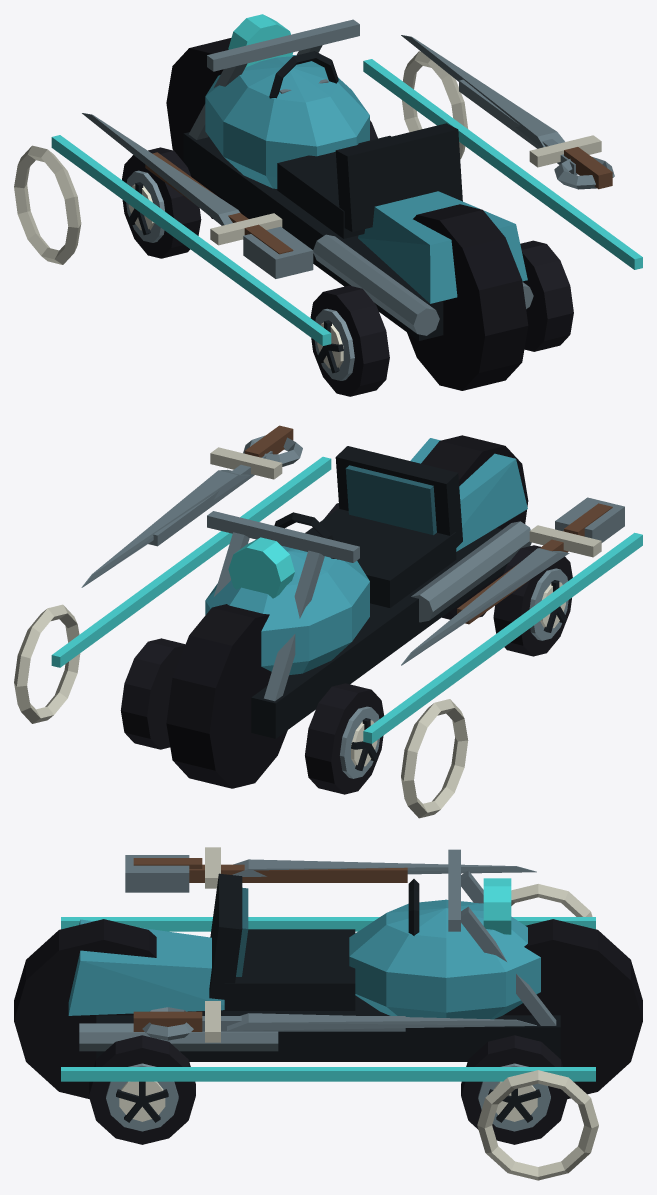
File: kart.glb
3 views of the same model, one above another, from view 1: azimuth 30°, elevation 25°; view 2: azimuth 150°, elevation 25°; view 3: azimuth 270°, elevation 25° (orthographic).
Parts seen in each view (by area): view 1: identity-motorbike-motorbike-tank-and-fork, identity-motorbike-motif-neon, identity-motorbike-driver-cockpit, identity-motorbike-motif-swords, wheel-rear-left, identity-motorbike-motif-tools, wheel-front-left, wheel-rear-right; view 2: identity-motorbike-motorbike-tank-and-fork, identity-motorbike-motif-neon, identity-motorbike-driver-cockpit, identity-motorbike-motif-swords, wheel-front-left, wheel-front-right, wheel-rear-left, identity-motorbike-motif-tools; view 3: identity-motorbike-motorbike-tank-and-fork, identity-motorbike-motif-neon, identity-motorbike-driver-cockpit, identity-motorbike-motif-swords, wheel-rear-right, wheel-front-right, identity-motorbike-motif-tools.
Part boxes in pixels (<box>): identity-motorbike-motorbike-tank-and-fork: <box>166,14,533,390</box>; identity-motorbike-motif-neon: <box>14,51,642,345</box>; identity-motorbike-driver-cockpit: <box>269,51,462,238</box>; identity-motorbike-motif-swords: <box>82,35,612,254</box>; wheel-rear-left: <box>310,285,389,396</box>; identity-motorbike-motif-tools: <box>145,79,614,278</box>; wheel-front-left: <box>122,147,201,258</box>; wheel-rear-right: <box>520,240,573,351</box>; identity-motorbike-motorbike-tank-and-fork: <box>166,435,531,788</box>; identity-motorbike-motif-neon: <box>14,456,642,818</box>; identity-motorbike-driver-cockpit: <box>274,446,462,607</box>; identity-motorbike-motif-swords: <box>81,425,612,665</box>; wheel-front-left: <box>305,683,384,794</box>; wheel-front-right: <box>120,638,185,749</box>; wheel-rear-left: <box>493,545,572,656</box>; identity-motorbike-motif-tools: <box>148,435,624,624</box>; identity-motorbike-motorbike-tank-and-fork: <box>14,849,642,1098</box>; identity-motorbike-motif-neon: <box>61,884,598,1180</box>; identity-motorbike-driver-cockpit: <box>209,873,419,1010</box>; identity-motorbike-motif-swords: <box>133,847,536,1042</box>; wheel-rear-right: <box>89,1035,195,1144</box>; wheel-front-right: <box>461,1035,567,1144</box>; identity-motorbike-motif-tools: <box>125,855,407,1040</box>.
Bounding box in the file's own units: 2.13 × 1.09 × 2.94.
